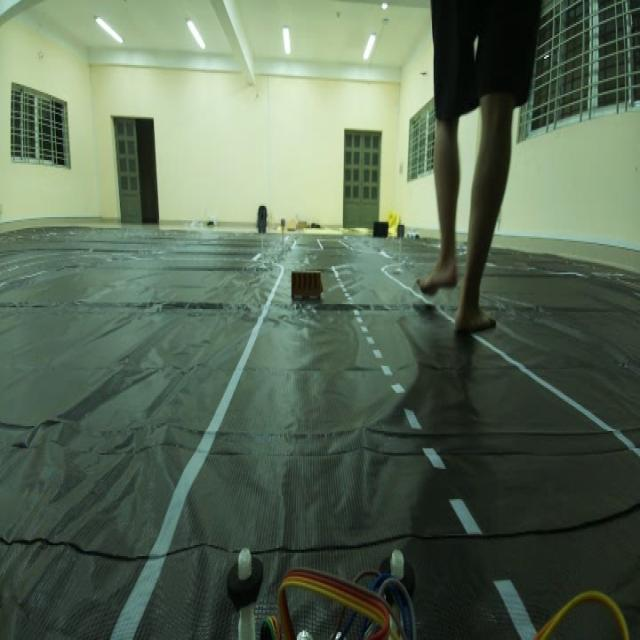roadblock: (283, 259, 329, 318)
